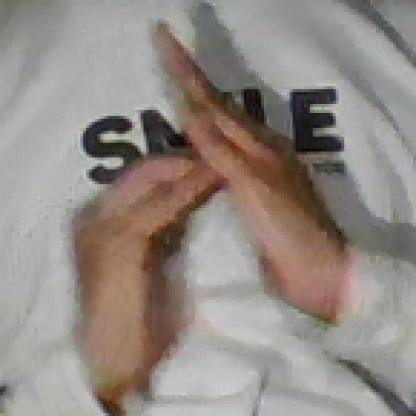Z: (63, 23, 328, 338)
